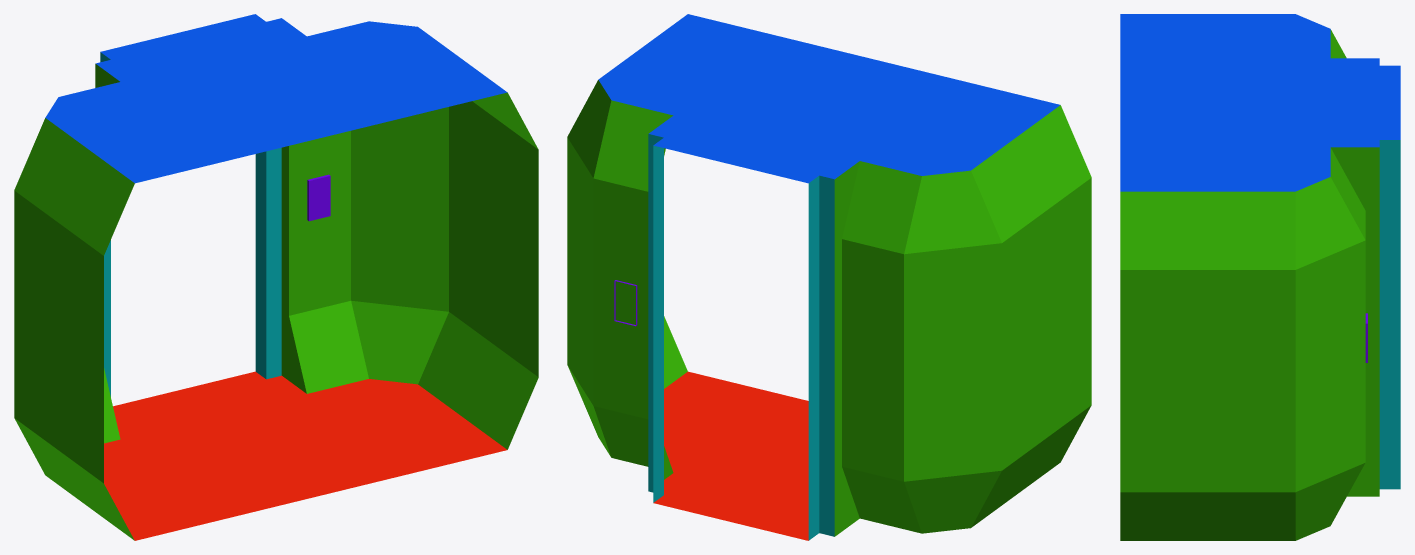
Rendered from hall_end_doorway.FBX.
3 views of the same model, side by side, from view 1: azimuth 30°, elevation 25°; view 2: azimuth 150°, elevation 25°; view 3: azimuth 270°, elevation 25° (orthographic). The views are drawn at different scales.
Parts seen in each view (by area): view 1: outer_corner001; view 2: outer_corner001; view 3: outer_corner001.
Boxes of the visible parts, left/top/right/bottom form: outer_corner001: left=14, top=14, right=538, bottom=540; outer_corner001: left=567, top=14, right=1091, bottom=540; outer_corner001: left=1120, top=14, right=1400, bottom=540.
Size of the model in its own units: 138 by 108 by 78.74.
